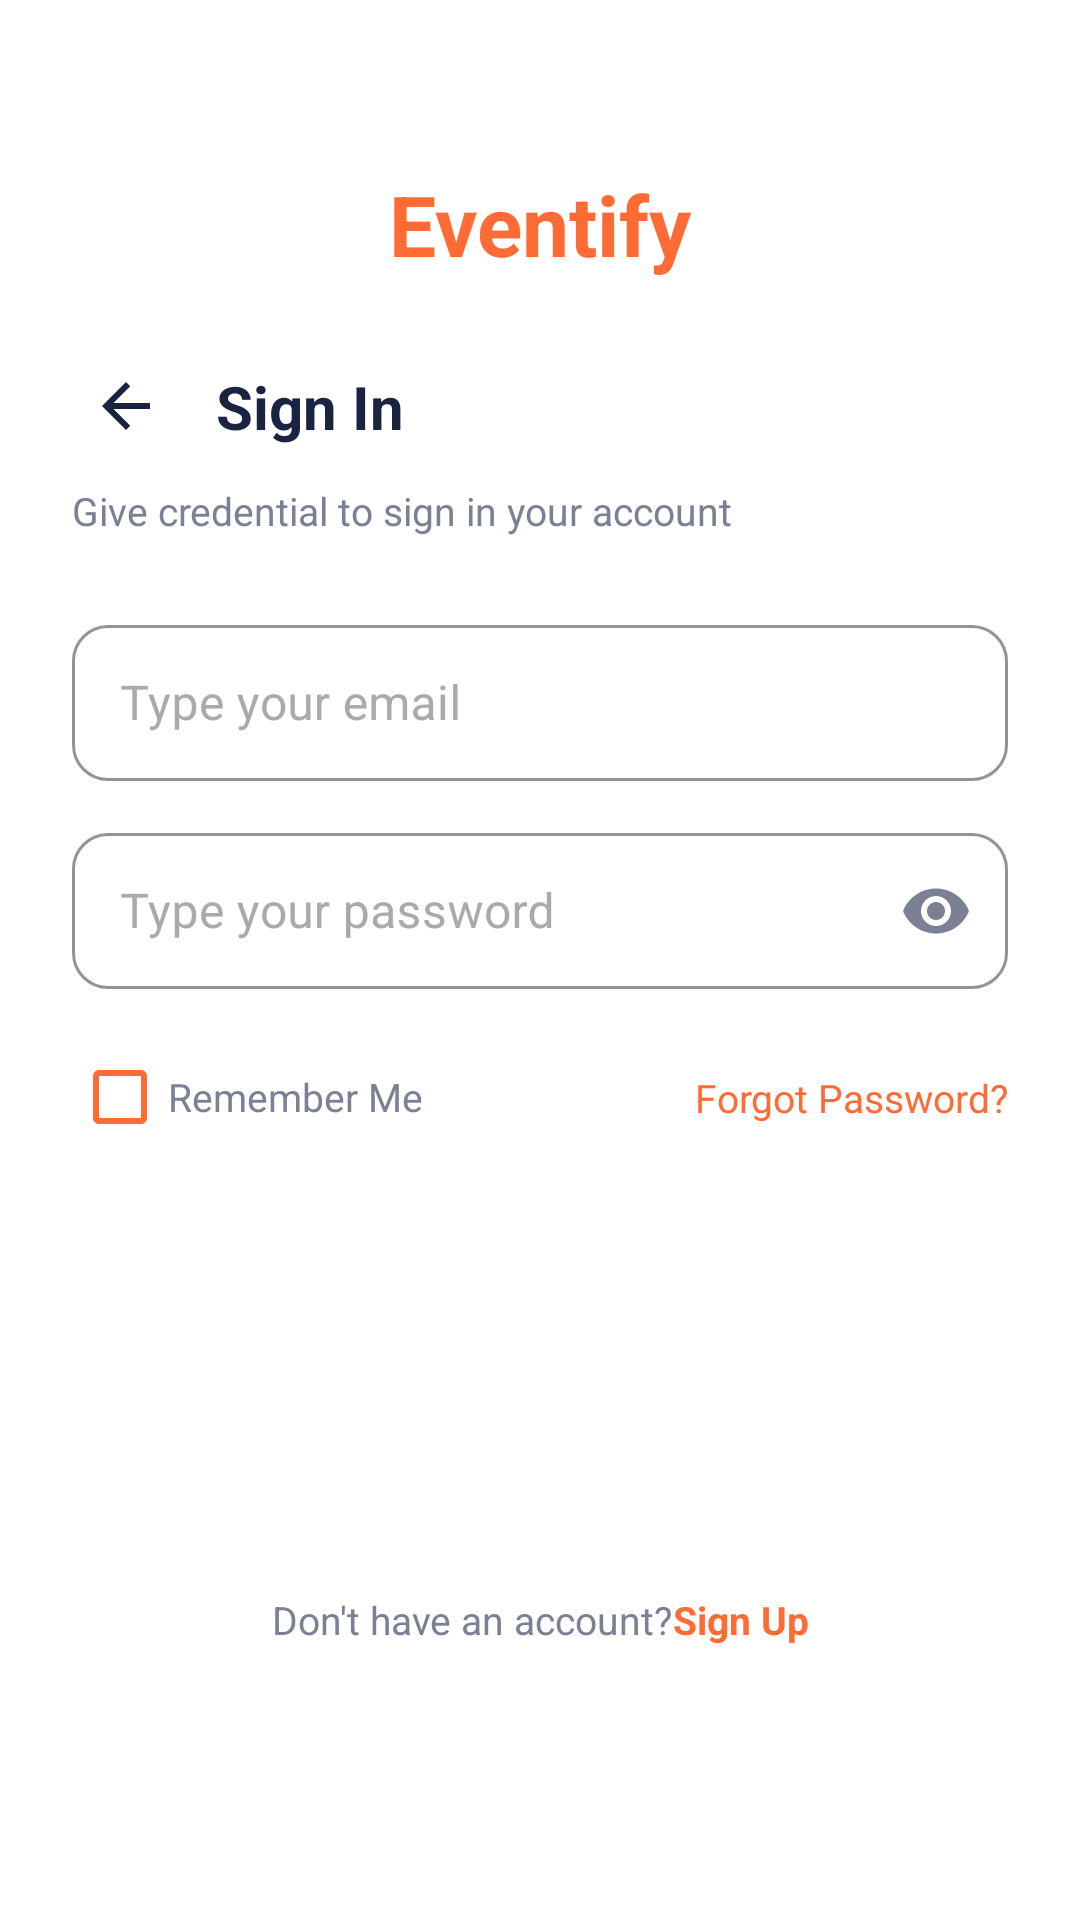

Icons on this 1080x1920 Android screen, each with its box as (x1, y1, x2, y2):
Back: (102, 382, 150, 430)
